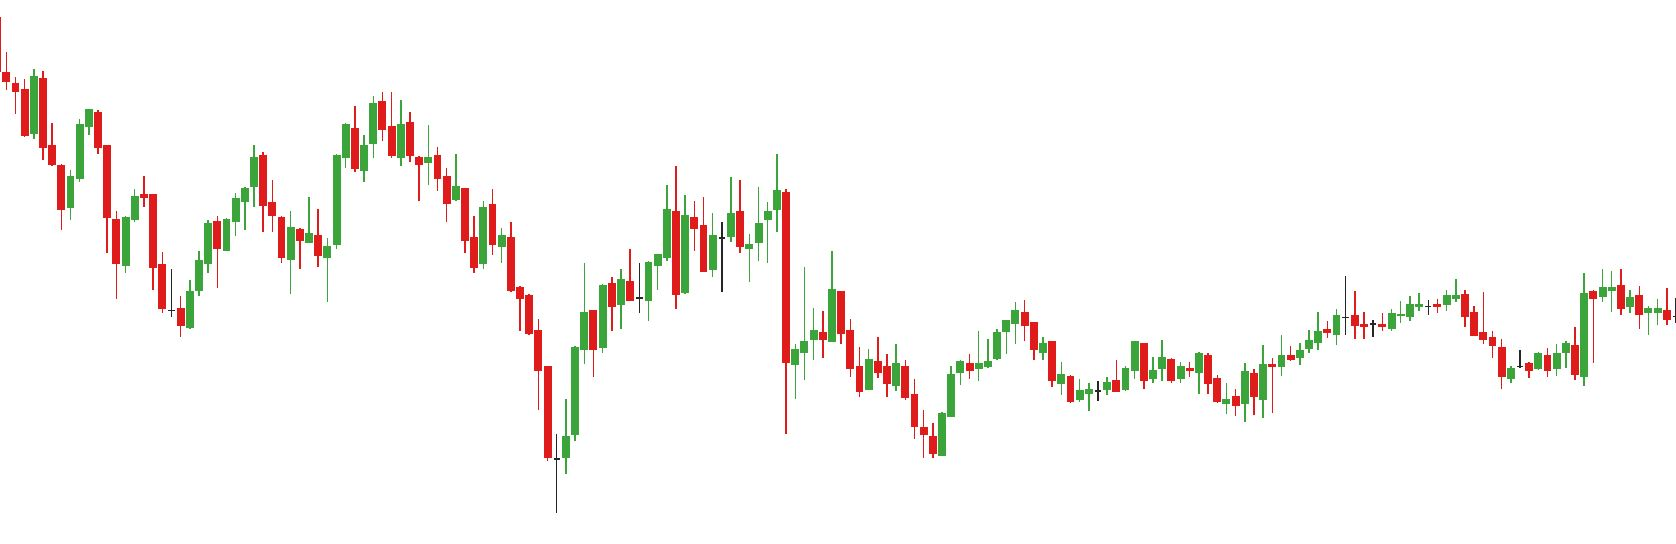buy: (109, 229, 195, 340), (285, 231, 333, 304)
sell: (248, 106, 360, 223)
